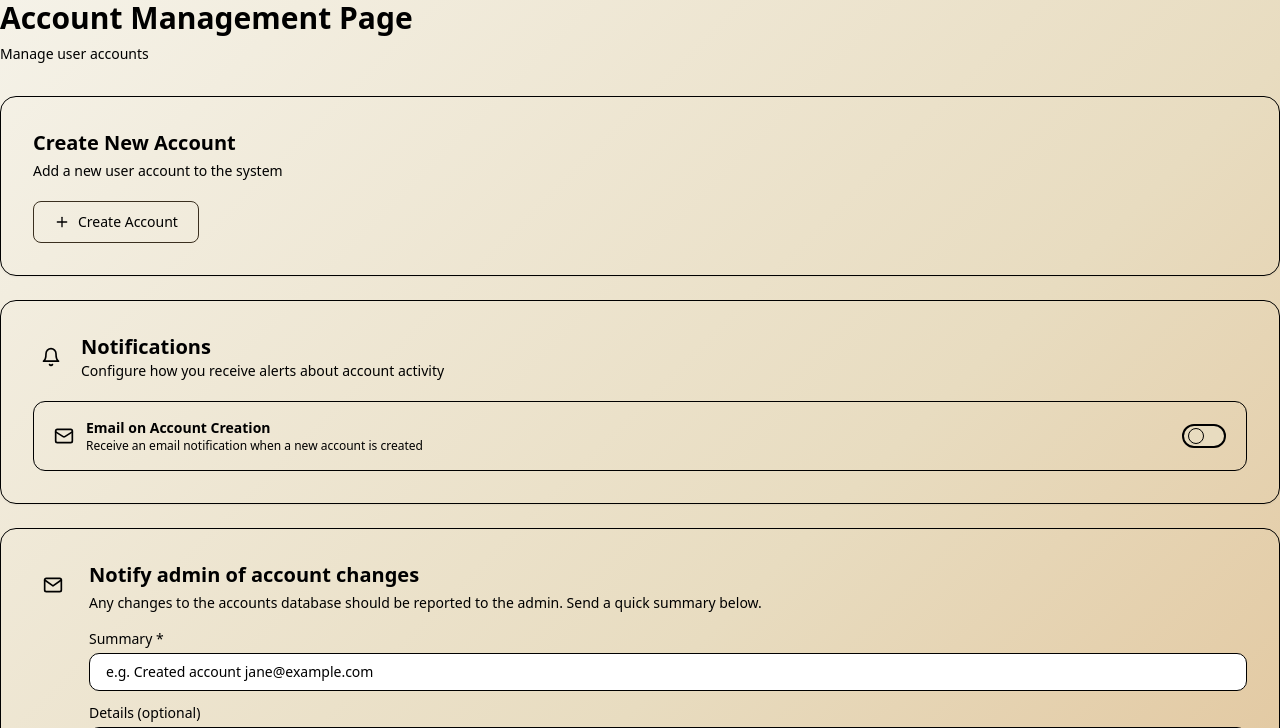
Test case: Account creation — AccountManagementPage modal › displays an API error message and keeps modal open when createAccount fails
Step 1. Click the button "Create Account" → (116, 222), box [33,201,199,243]
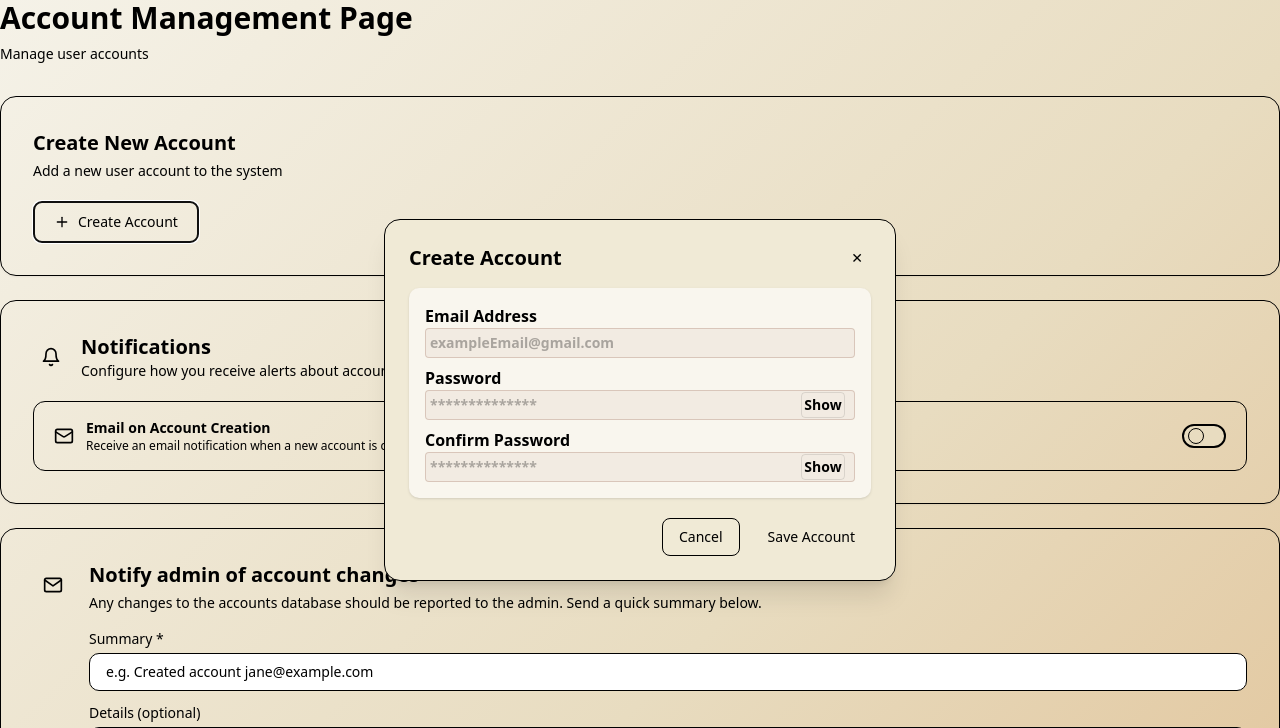
Step 2. Type "taken@example.com" into the field labelled "Email Address" → (640, 343), box [425,328,855,358]
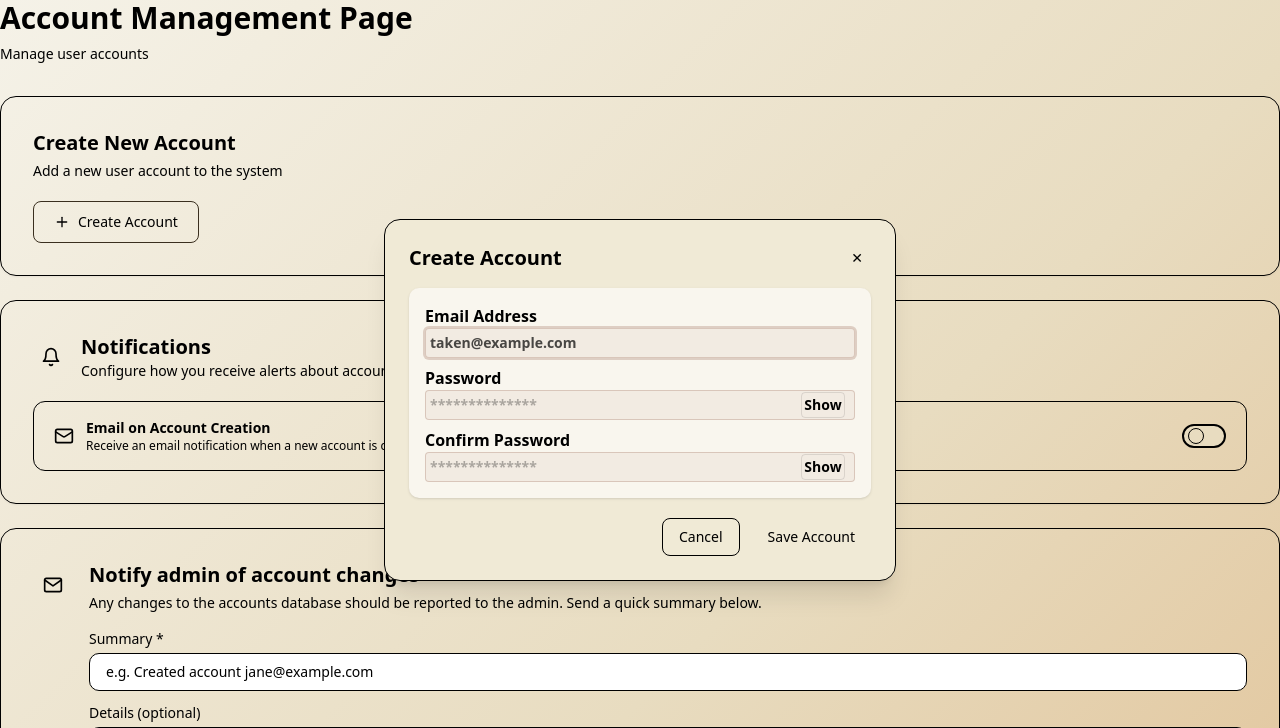
Step 3. Type "password123" into the password field labelled "Password" → (640, 405), box [425,390,855,420]
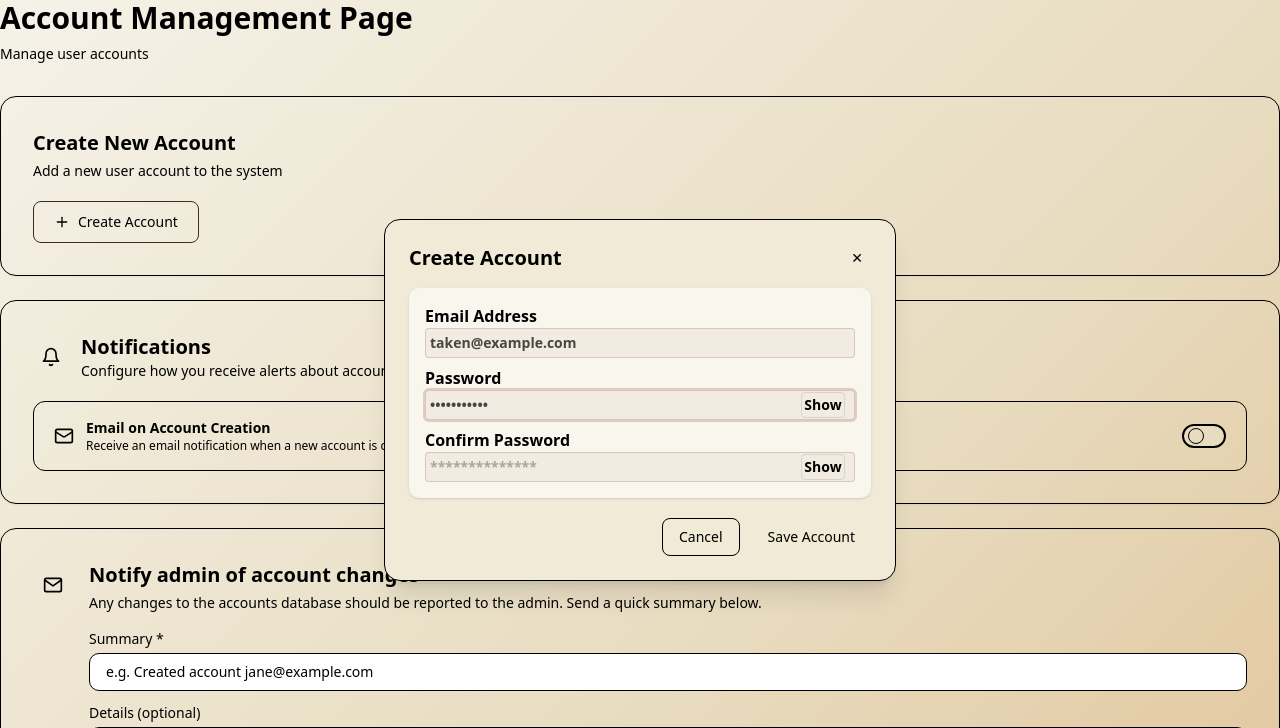
Step 4. Type "password123" into the password field labelled "Confirm Password" → (640, 467), box [425,452,855,482]
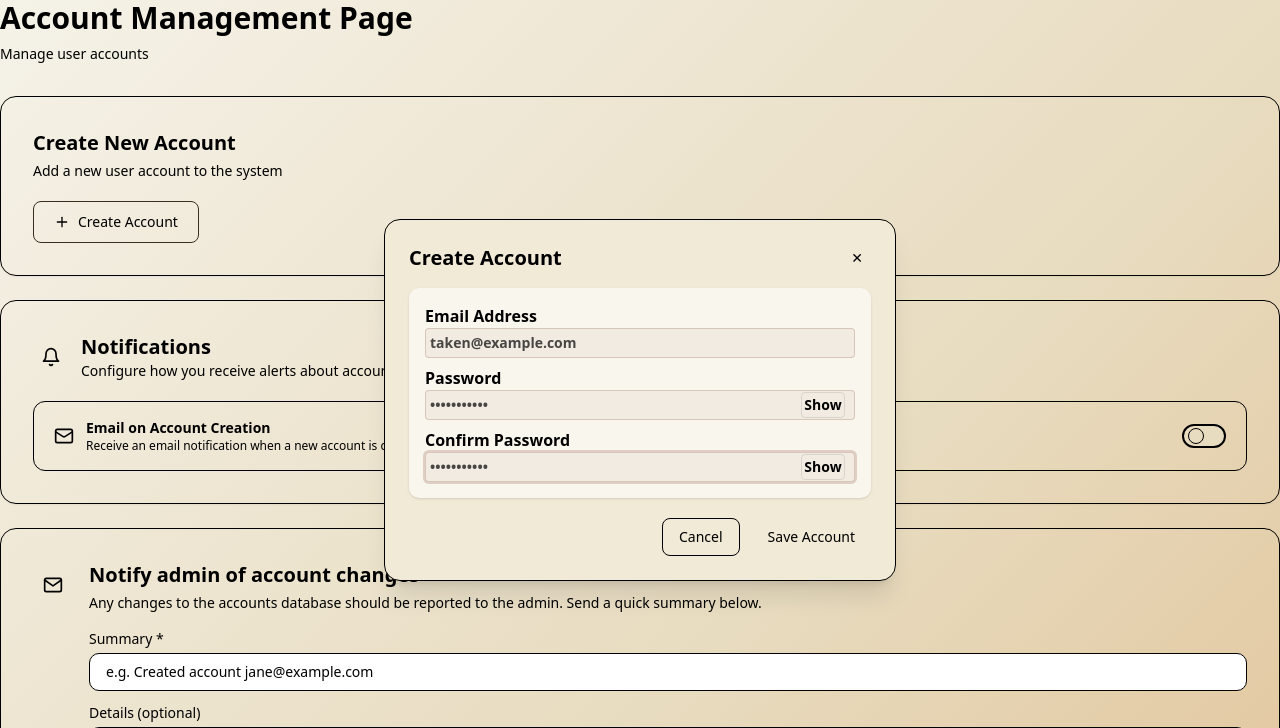
Step 5. Click the button "Save Account" → (811, 537), box [752,518,871,556]
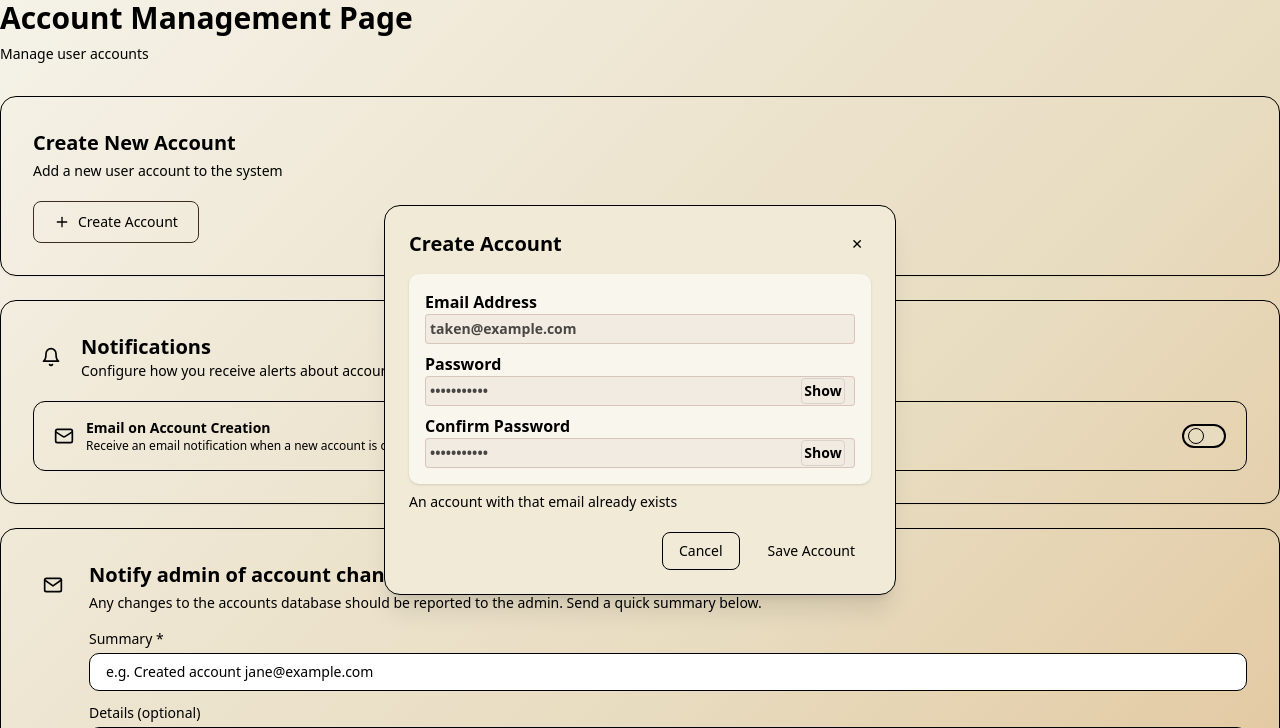
Check: the dialog is shown, box [384,205,896,595]
Check: the text "An account with that email already exists" is shown, box [409,492,677,511]
